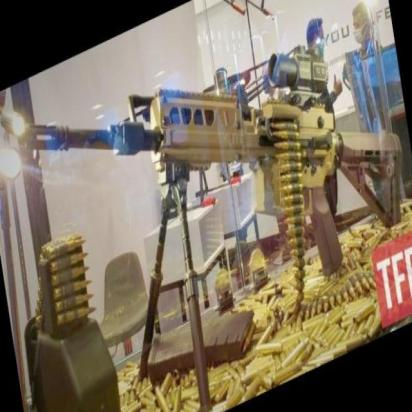Gun: (17, 46, 344, 193)
